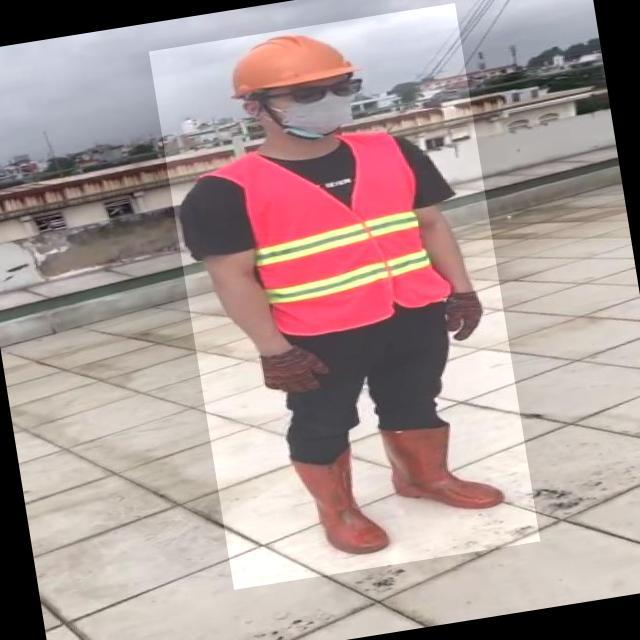Gloves: (259, 340, 342, 397), (448, 290, 485, 344)
Helmet: (216, 22, 359, 101)
Human: (149, 3, 540, 590)
Safety Boot: (383, 412, 508, 522), (289, 442, 393, 565)
Safety Vest: (235, 128, 454, 343)
